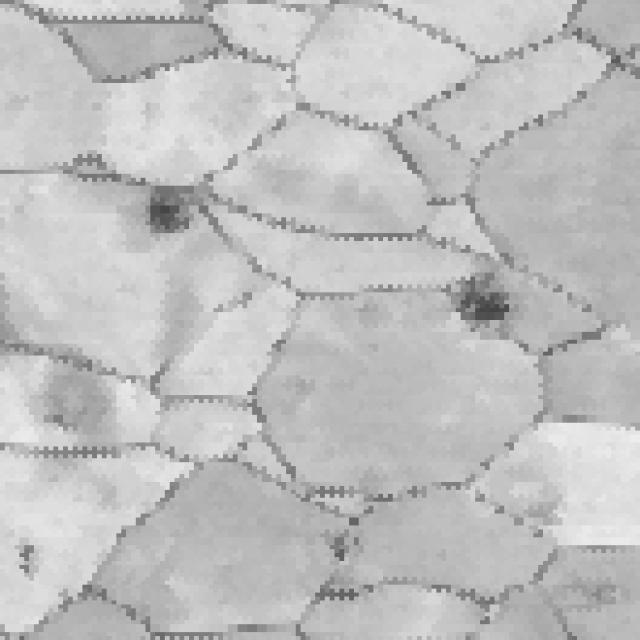good_void: (36, 367, 121, 442), (437, 271, 534, 328), (131, 176, 214, 238), (327, 524, 355, 569), (15, 541, 42, 582)
